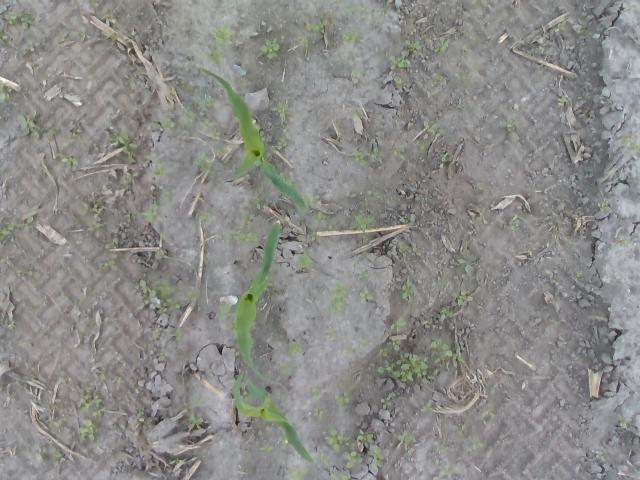Maize: (196, 64, 306, 212), (234, 220, 282, 386), (230, 373, 316, 464)
Weeds: (377, 347, 436, 384), (138, 278, 182, 314), (103, 128, 140, 163), (431, 338, 464, 368), (321, 282, 350, 313), (324, 428, 356, 452), (183, 396, 205, 430), (456, 250, 476, 286), (226, 227, 260, 247), (16, 112, 40, 138), (0, 12, 33, 30), (351, 148, 381, 166), (258, 36, 281, 58), (395, 282, 416, 306), (77, 199, 105, 217), (349, 214, 376, 232), (150, 116, 177, 134), (42, 414, 72, 430), (80, 419, 100, 442), (200, 48, 224, 67), (78, 394, 102, 412), (366, 446, 387, 466), (192, 153, 212, 174), (146, 156, 166, 177), (142, 203, 163, 223), (211, 24, 232, 44), (343, 450, 363, 468), (314, 211, 332, 230), (356, 428, 373, 448), (620, 134, 640, 151), (398, 430, 415, 450), (450, 290, 472, 305), (58, 152, 77, 169), (100, 255, 119, 272), (198, 96, 218, 112), (50, 446, 66, 466), (270, 102, 290, 118), (306, 19, 328, 33), (295, 252, 313, 269), (276, 171, 294, 187), (285, 342, 303, 358), (390, 54, 408, 70), (0, 81, 14, 101), (358, 286, 374, 303), (342, 28, 359, 44), (390, 316, 406, 332), (468, 436, 484, 452), (334, 391, 349, 408), (238, 213, 256, 227), (220, 302, 234, 320), (617, 414, 633, 429), (0, 224, 14, 241), (88, 220, 101, 238), (15, 216, 33, 229), (500, 116, 519, 128), (386, 336, 402, 350), (364, 190, 380, 204), (46, 122, 60, 138), (226, 320, 237, 340), (290, 468, 308, 480), (405, 39, 423, 51), (422, 120, 440, 132), (434, 38, 449, 52), (301, 194, 318, 206), (509, 213, 520, 231), (93, 367, 107, 381), (439, 154, 453, 168), (182, 107, 195, 122), (125, 171, 140, 184), (78, 26, 90, 42), (278, 430, 289, 447), (380, 395, 393, 409), (451, 424, 465, 437), (27, 39, 42, 51), (104, 238, 119, 250), (306, 231, 322, 242), (253, 191, 262, 210), (72, 123, 82, 140), (440, 308, 454, 320), (198, 210, 212, 222), (132, 412, 144, 426), (199, 119, 214, 130), (481, 408, 496, 419), (398, 245, 410, 258), (185, 290, 198, 302), (239, 390, 252, 402), (414, 141, 427, 153), (438, 464, 451, 476), (278, 363, 292, 374), (394, 146, 405, 160), (398, 218, 414, 227), (208, 128, 220, 140), (351, 69, 363, 81), (352, 106, 364, 118), (356, 269, 369, 280), (310, 387, 321, 400), (557, 94, 568, 107), (332, 472, 348, 480), (0, 28, 8, 44), (347, 6, 363, 14), (102, 14, 111, 28), (92, 408, 106, 417), (458, 97, 467, 111), (277, 138, 287, 150), (620, 236, 632, 246), (259, 444, 274, 452), (344, 346, 356, 356), (358, 338, 370, 348), (172, 330, 184, 340), (555, 22, 567, 32), (162, 188, 170, 202), (314, 408, 324, 419), (423, 402, 434, 412), (320, 452, 329, 464), (216, 144, 228, 153), (16, 270, 34, 276), (160, 348, 169, 360), (598, 202, 610, 211), (454, 72, 466, 81), (102, 32, 115, 40), (437, 445, 450, 453), (596, 450, 606, 460), (436, 276, 445, 287), (258, 130, 266, 142), (169, 458, 185, 464), (156, 251, 168, 259), (0, 255, 10, 264), (393, 77, 404, 85), (473, 216, 482, 225), (116, 42, 125, 51), (324, 330, 334, 338), (277, 391, 285, 401), (125, 214, 133, 224), (300, 38, 308, 48), (412, 247, 421, 255), (577, 28, 586, 36), (153, 328, 160, 338), (8, 322, 16, 330), (436, 74, 444, 82), (28, 372, 36, 379), (115, 376, 123, 382), (470, 0, 478, 5), (44, 334, 50, 340), (462, 45, 468, 51)
